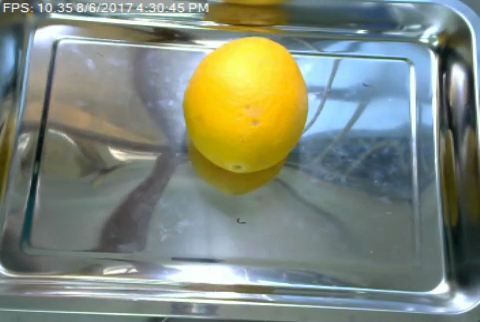Orange: (182, 37, 311, 172)
